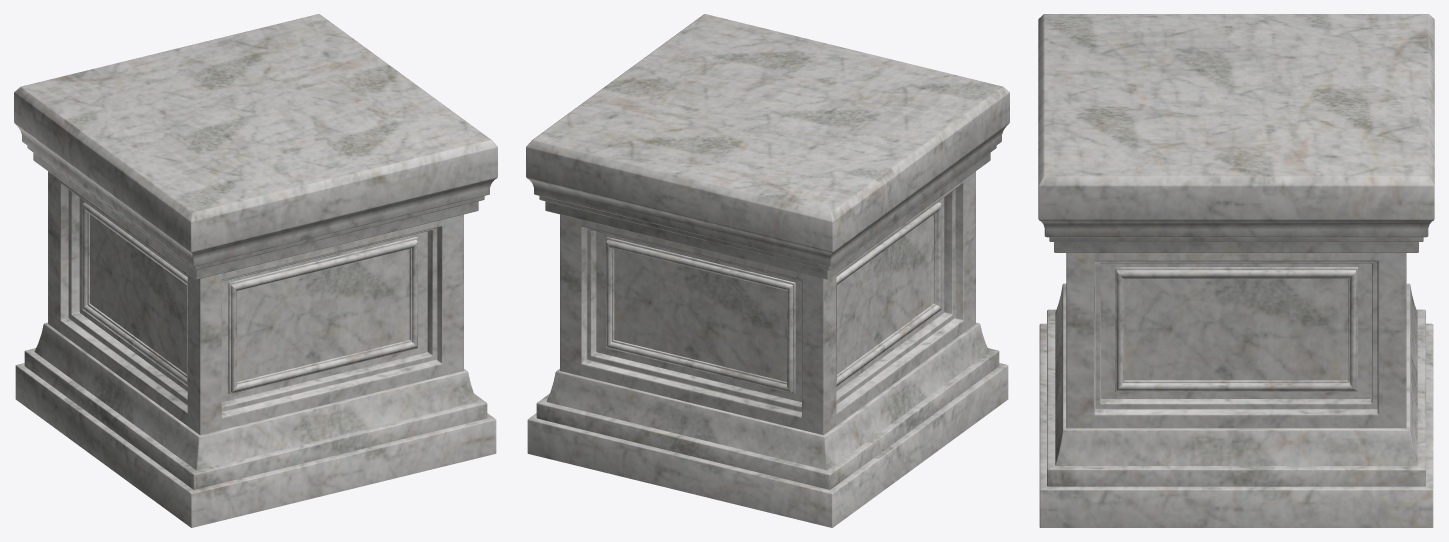
Rendered from StatueStand_B.fbx.
The picture shows the model from 3 angles, left to right: view 1: azimuth 30°, elevation 25°; view 2: azimuth 150°, elevation 25°; view 3: azimuth 270°, elevation 25°; orthographic projection. The views are drawn at different scales.
Visible parts, largest first — view 1: StatueStand_B; view 2: StatueStand_B; view 3: StatueStand_B.
Part boxes in pixels (bbox=[...]): StatueStand_B: bbox=[14, 14, 497, 527]; StatueStand_B: bbox=[526, 14, 1009, 527]; StatueStand_B: bbox=[1038, 14, 1434, 527].
Bounding box in the file's own units: 2.04 × 1.99 × 2.04.
